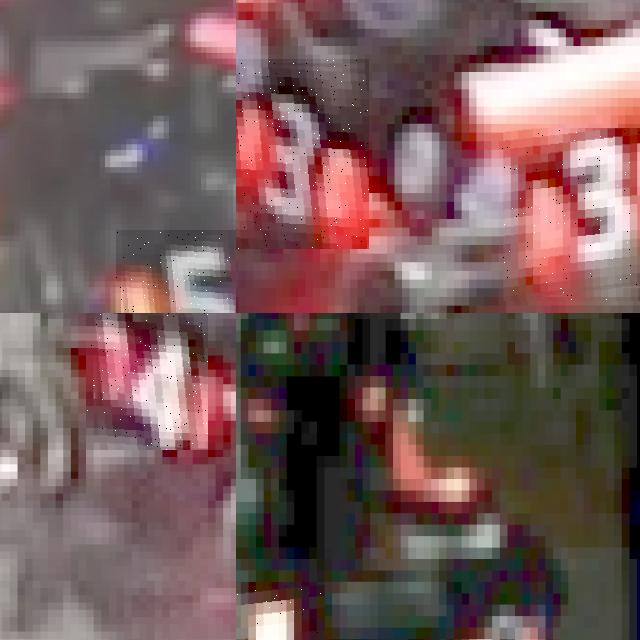R3: (236, 58, 368, 249), (502, 128, 640, 301)
R4: (86, 313, 208, 449)
R5: (115, 230, 236, 313)
Rs: (236, 581, 324, 640)
